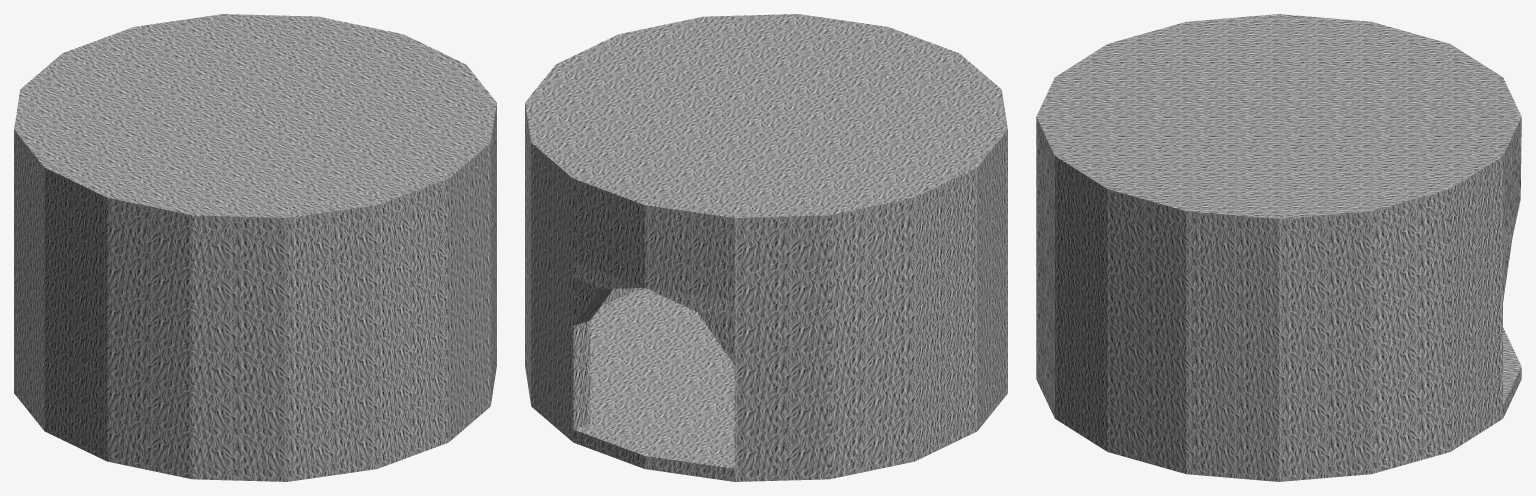
The model's file is cat_house_single_exit.glb.
3 views of the same model, side by side, from view 1: azimuth 30°, elevation 25°; view 2: azimuth 150°, elevation 25°; view 3: azimuth 270°, elevation 25° (orthographic).
Visible parts, largest first — view 1: OneEntrance; view 2: OneEntrance; view 3: OneEntrance.
Boxes of the visible parts, x1,y1,x2,y2 form: OneEntrance: (14, 14, 496, 481); OneEntrance: (525, 14, 1007, 481); OneEntrance: (1036, 14, 1521, 481).
Size of the model in its own units: 2 by 1.2 by 2.
Materials: 1 (1 with a texture image).
